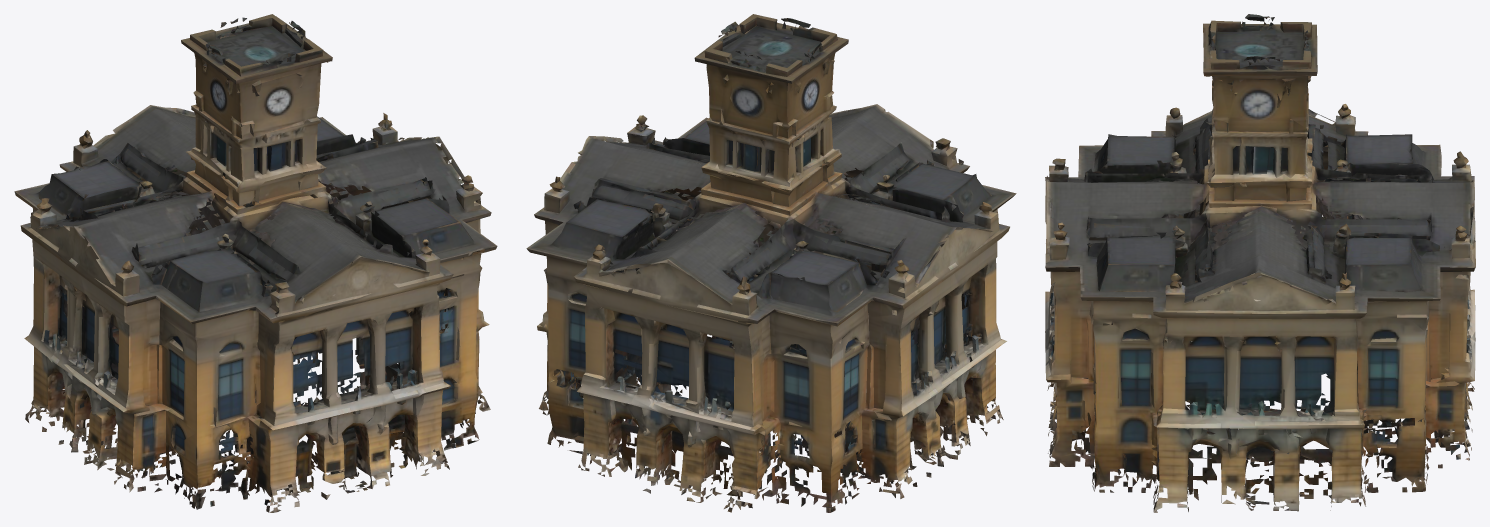
The model's file is town_center__city-hall_e6.glb.
The picture shows the model from 3 angles, left to right: view 1: azimuth 30°, elevation 25°; view 2: azimuth 150°, elevation 25°; view 3: azimuth 270°, elevation 25°; orthographic projection.
Bounding box in the file's own units: 2.01 × 1.99 × 2.
1 material, 1 textured.
